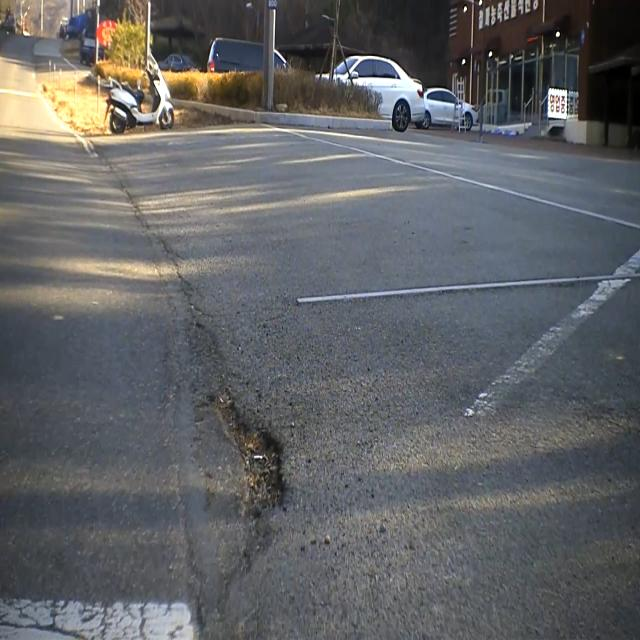Pothole: (192, 376, 293, 534)
